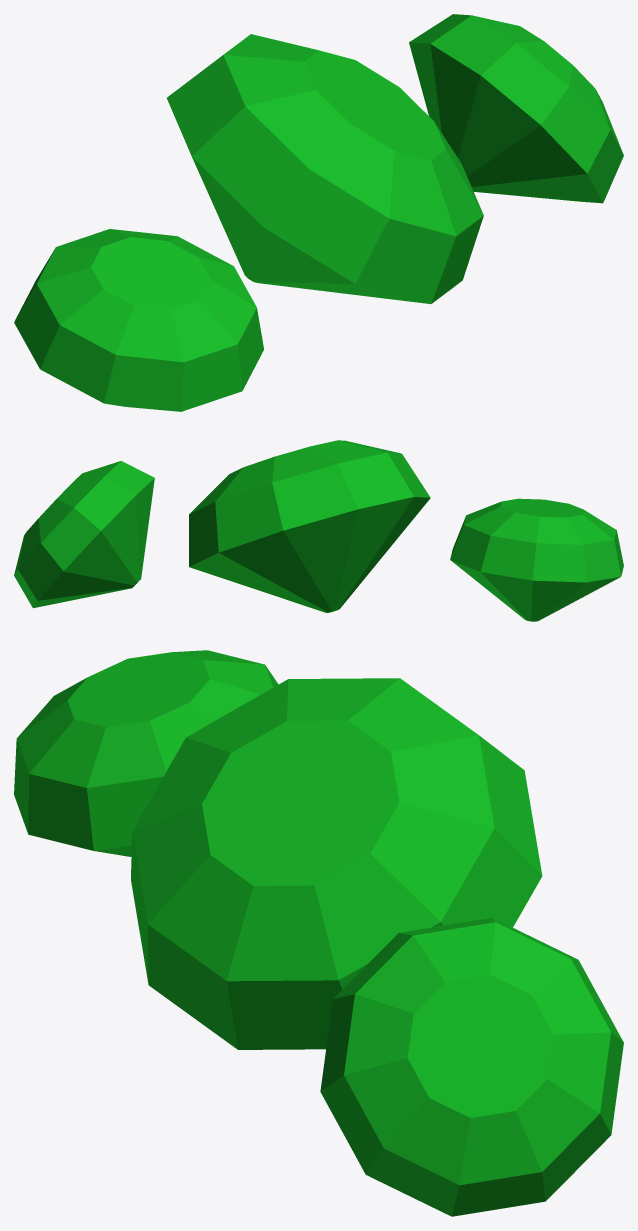
The picture shows the model from 3 angles, top to bottom: view 1: azimuth 30°, elevation 25°; view 2: azimuth 150°, elevation 25°; view 3: azimuth 270°, elevation 25°; orthographic projection. The views are drawn at different scales.
Visible parts, largest first — view 1: TI026 / individually faceted stone 1, TI026 / individually faceted stone 0, TI026 / individually faceted stone 2; view 2: TI026 / individually faceted stone 1, TI026 / individually faceted stone 0, TI026 / individually faceted stone 2; view 3: TI026 / individually faceted stone 1, TI026 / individually faceted stone 2, TI026 / individually faceted stone 0.
Boxes of the visible parts, x1,y1,x2,y2 form: TI026 / individually faceted stone 1: (167,34,483,303); TI026 / individually faceted stone 0: (14,229,263,411); TI026 / individually faceted stone 2: (409,14,623,203); TI026 / individually faceted stone 1: (189,440,430,612); TI026 / individually faceted stone 0: (450,498,623,621); TI026 / individually faceted stone 2: (14,461,154,608); TI026 / individually faceted stone 1: (131,678,542,1049); TI026 / individually faceted stone 2: (320,918,623,1216); TI026 / individually faceted stone 0: (14,650,278,856).
Size of the model in its own units: 2.54 by 0.8889 by 1.57.
